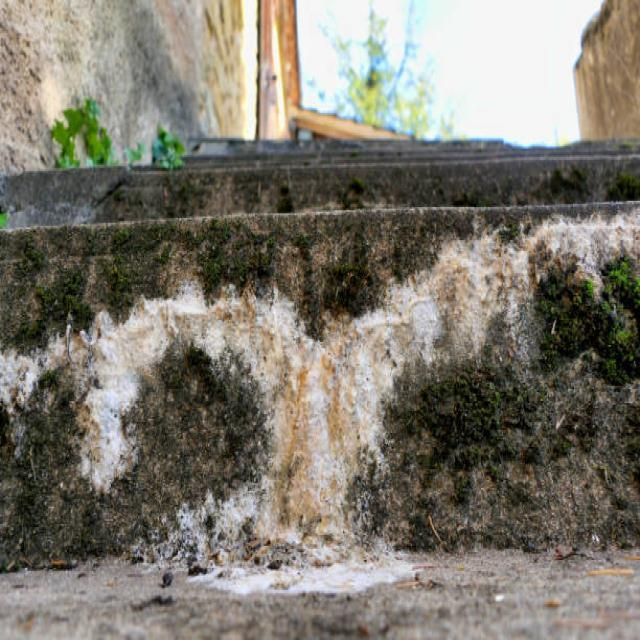dampness: (3, 196, 638, 575)
